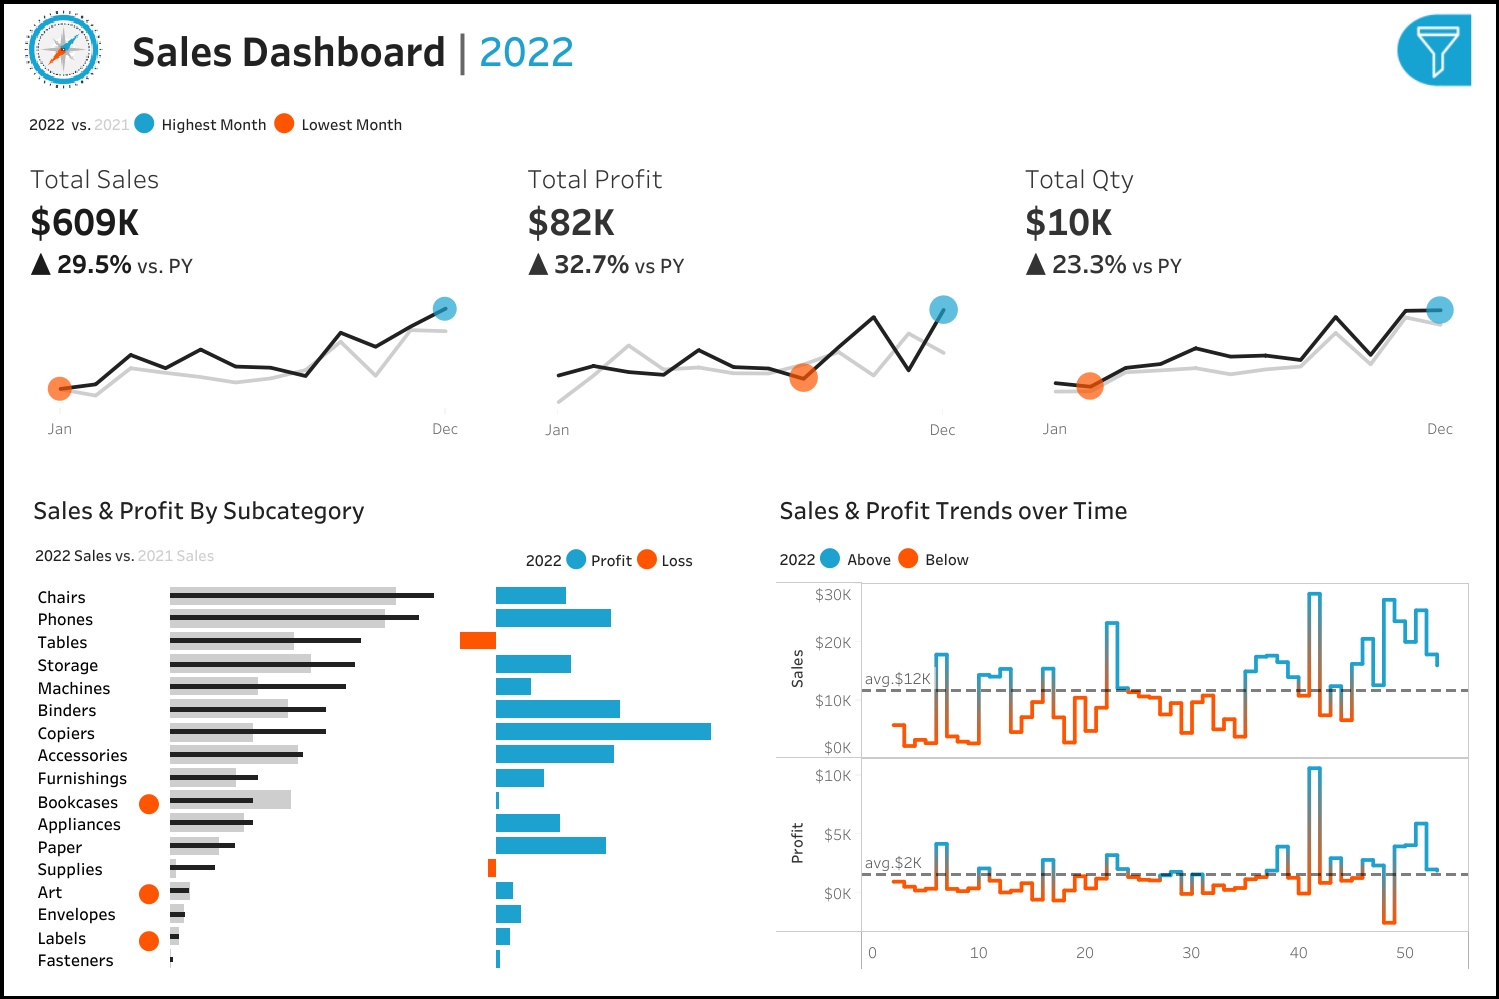

What the dashboard file says about the page in this screenshot:
{"tool":"tableau","page":{"name":"Sales Dashboard","canvas":[1200,800],"ordinal":0},"visuals":[{"type":"image","param":"Image/Icon - Logo.png","box":[3,3,96,73]},{"type":"text","box":[99,3,1098,73]},{"type":"dashboard-object","box":[1110,10,74,61]},{"type":"worksheet","title":"Legends of  KPI","mark":"Automatic","box":[3,76,1194,39]},{"type":"worksheet","title":"KPI Sales","mark":"Automatic","rows":["Calculation_1487969195524100"],"cols":["Order Date"],"box":[3,115,398,258]},{"type":"worksheet","title":"KPI Profit","mark":"Automatic","rows":["Min/Max Sales (copy)_1487969240076300"],"cols":["Order Date"],"box":[401,115,398,258]},{"type":"worksheet","title":"KPI Qty","mark":"Automatic","rows":["Calculation_1487969433116690"],"cols":["Order Date"],"box":[799,115,398,258]},{"type":"text","box":[20,390,563,40]},{"type":"text","box":[617,390,563,40]},{"type":"worksheet","title":"Legends of Subcategory","mark":"Automatic","box":[20,430,394,38]},{"type":"text","box":[414,430,169,38]},{"type":"text","box":[617,430,563,45]},{"type":"worksheet","title":"Subcategory Comparison","mark":"Bar","rows":["Sub-Category","Calculation_1487969459085335"],"cols":["CY Sales (copy)_1487969186996225","Calculation_1487969186193408","Calculation_1487969218961417"],"box":[20,468,563,312]},{"type":"worksheet","title":"Weekly Trends","mark":"Automatic","rows":["Calculation_1487969186193408","Calculation_1487969218961417"],"cols":["Order Date"],"box":[617,475,563,305]}]}

Visuals, with their boxes in screenshot pixels (x1, y1, x2, y2), scaled from the page's 1200x800 canvas onto the 1499x999 screenshot:
image: BBox(4, 4, 124, 95)
text: BBox(124, 4, 1495, 95)
dashboard-object: BBox(1387, 12, 1479, 89)
"Legends of  KPI" worksheet: BBox(4, 95, 1495, 144)
"KPI Sales" worksheet: BBox(4, 144, 501, 466)
"KPI Profit" worksheet: BBox(501, 144, 998, 466)
"KPI Qty" worksheet: BBox(998, 144, 1495, 466)
text: BBox(25, 487, 728, 537)
text: BBox(771, 487, 1474, 537)
"Legends of Subcategory" worksheet: BBox(25, 537, 517, 584)
text: BBox(517, 537, 728, 584)
text: BBox(771, 537, 1474, 593)
"Subcategory Comparison" worksheet (Bar marks): BBox(25, 584, 728, 974)
"Weekly Trends" worksheet: BBox(771, 593, 1474, 974)
